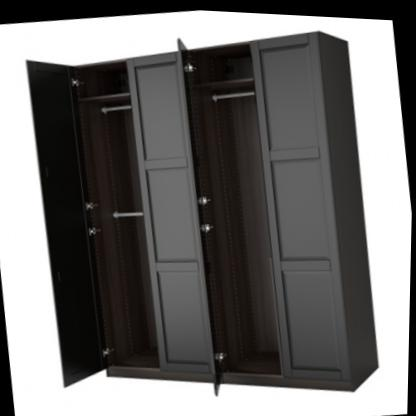Cabinet: (11, 8, 393, 416)
